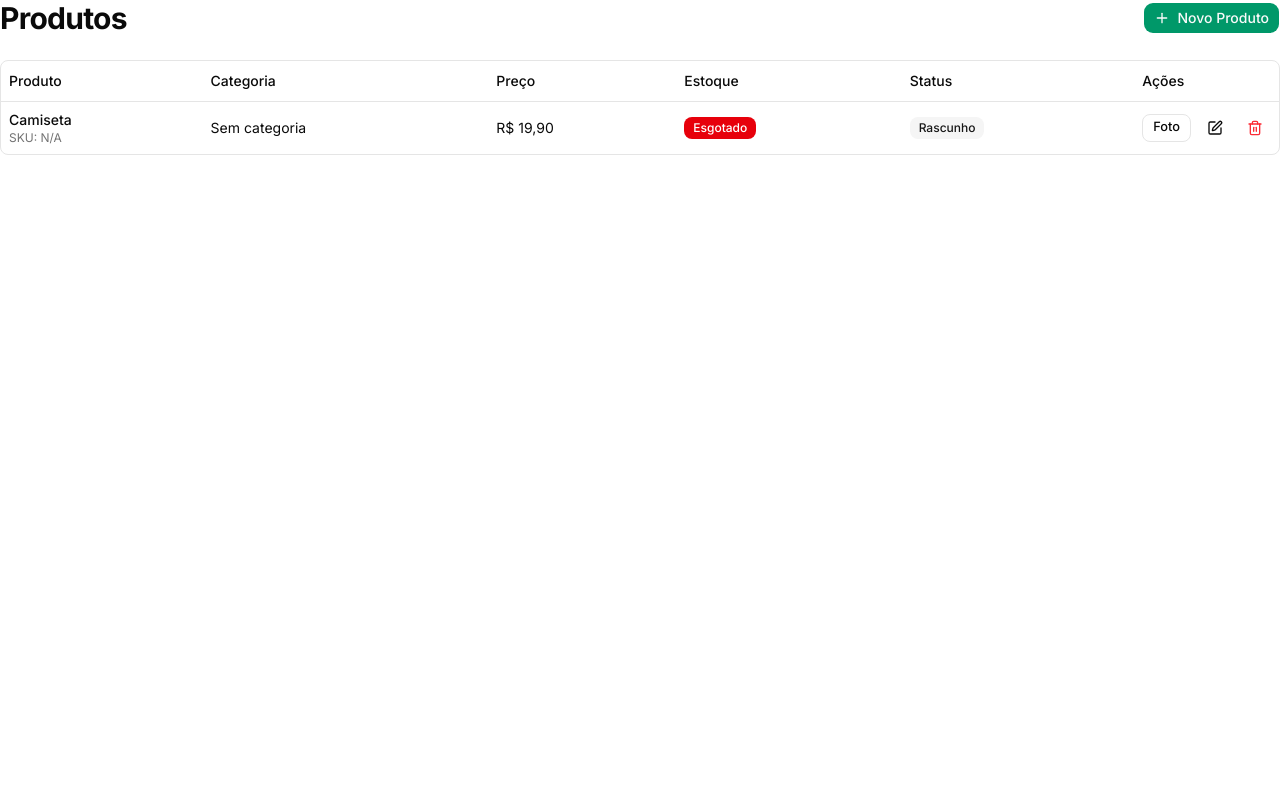
preço base no formulário › bloqueia preço apagado durante a edição
This screenshot has width=1280, height=800.
Step 1. Click the button named "Editar Camiseta" → (1215, 128), box [1199, 112, 1231, 144]
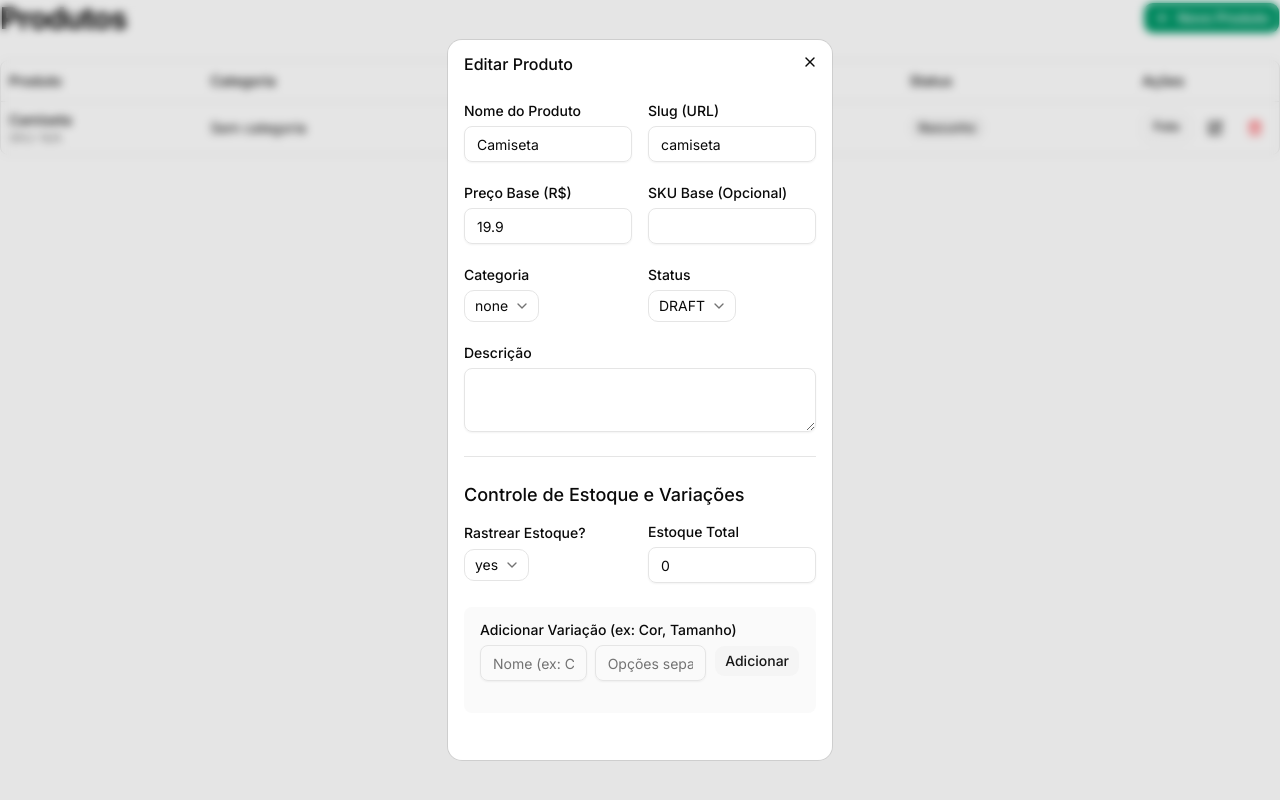
Step 2. Clear the number field labelled "Preço Base (R$)" → (548, 226), box [464, 208, 632, 244]
(page scrolled)
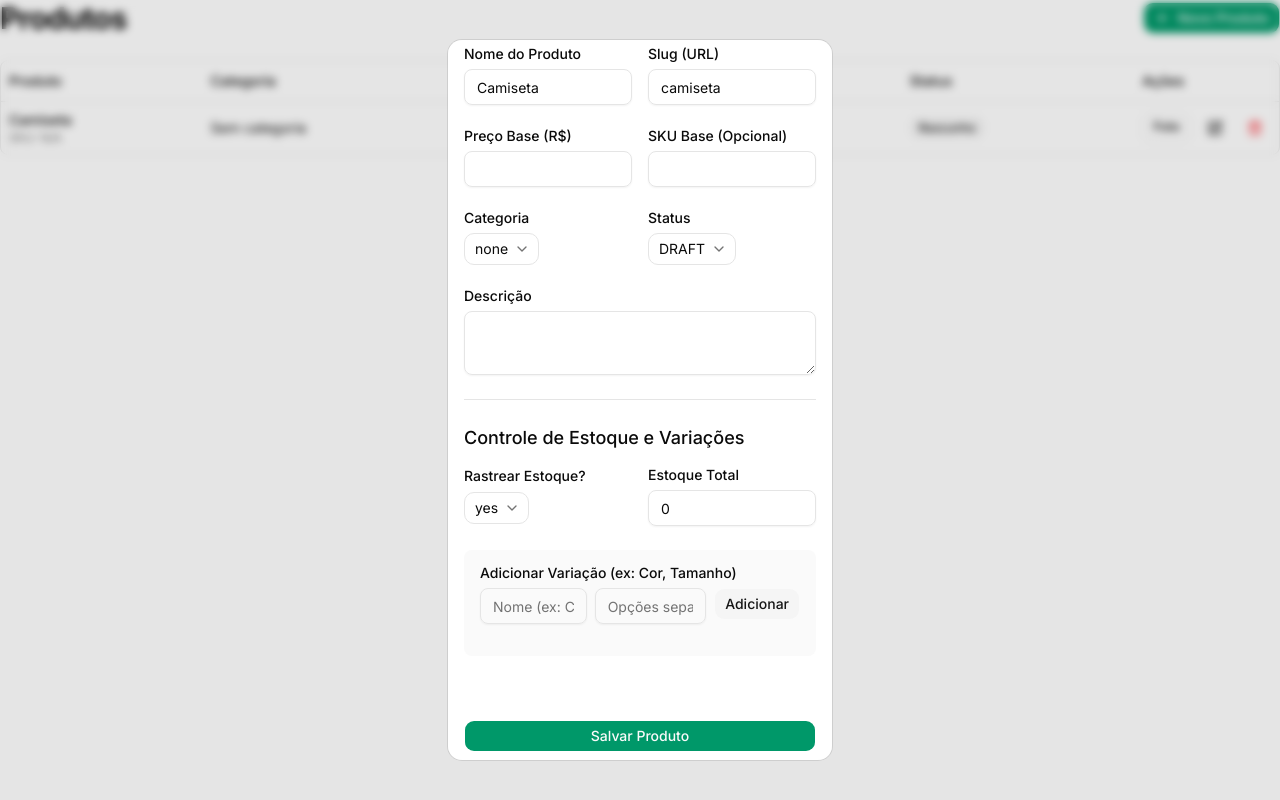
Step 3. Submit the form named "Salvar Produto", box [464, 47, 816, 752]
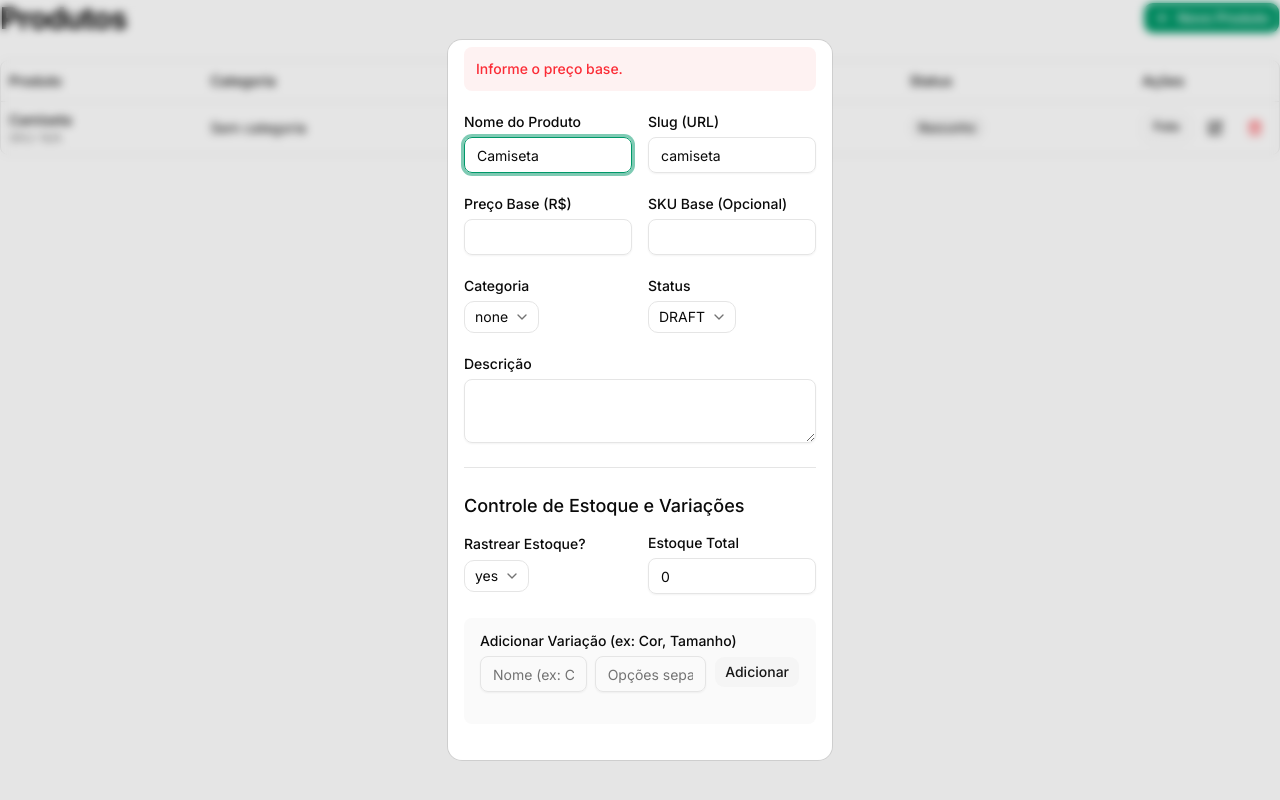
Check: the text "Informe o preço base." is shown, box [464, 47, 816, 91]
